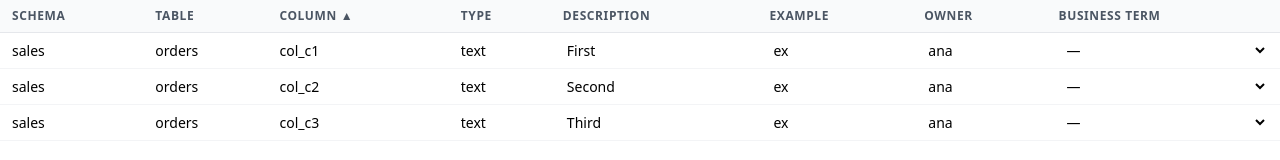
it: MetadataGrid keyboard editing › abandons the edit on Escape
The image size is (1280, 160).
Click the text "First" at {"x": 581, "y": 50}, box [567, 40, 595, 60]
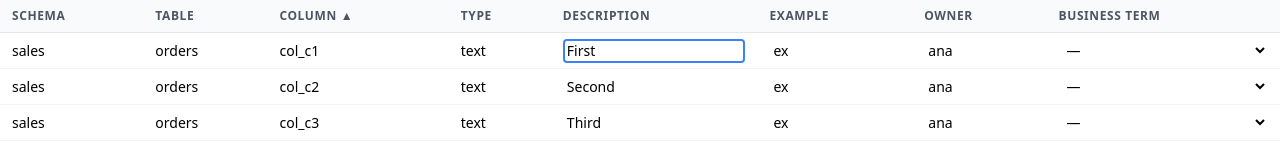
Press Enter in the table
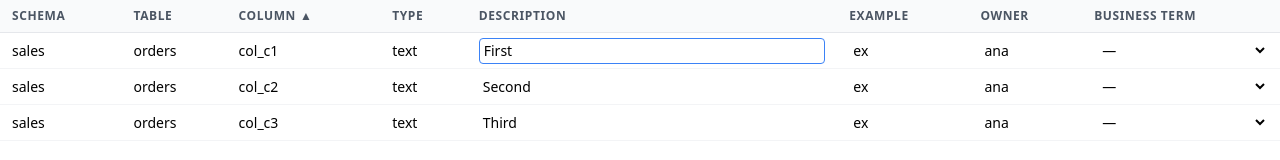
Replace the text in the field with "Discarded" at {"x": 652, "y": 50}, box [479, 38, 825, 64]
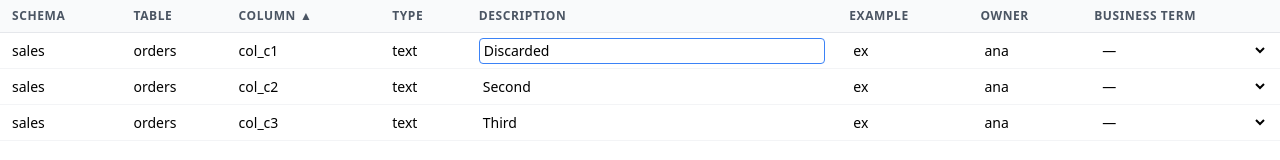
Press Escape in the field, box [479, 38, 825, 64]
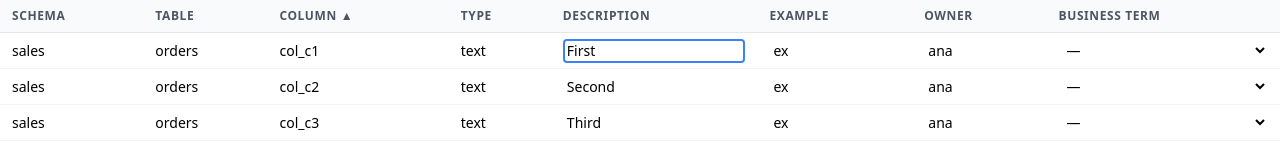
Expected: the text "First" is shown, [563, 38, 745, 62]
